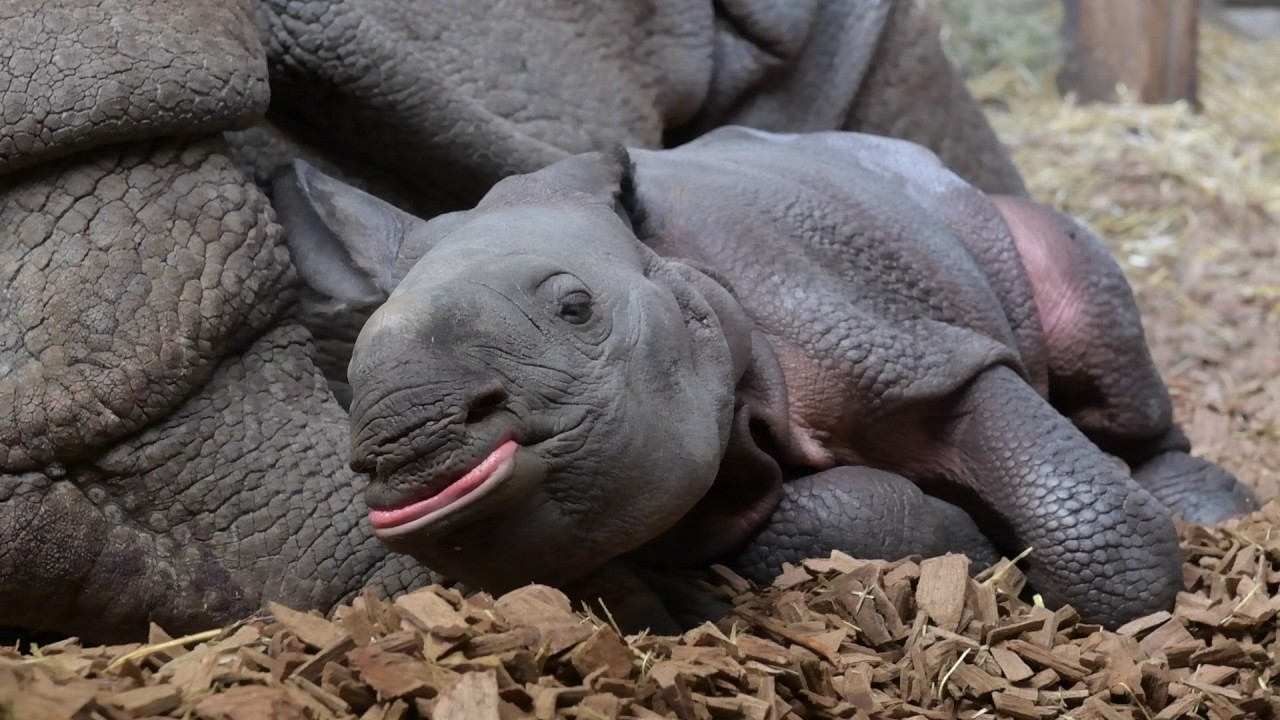rhinoceros: (318, 108, 1218, 654)
